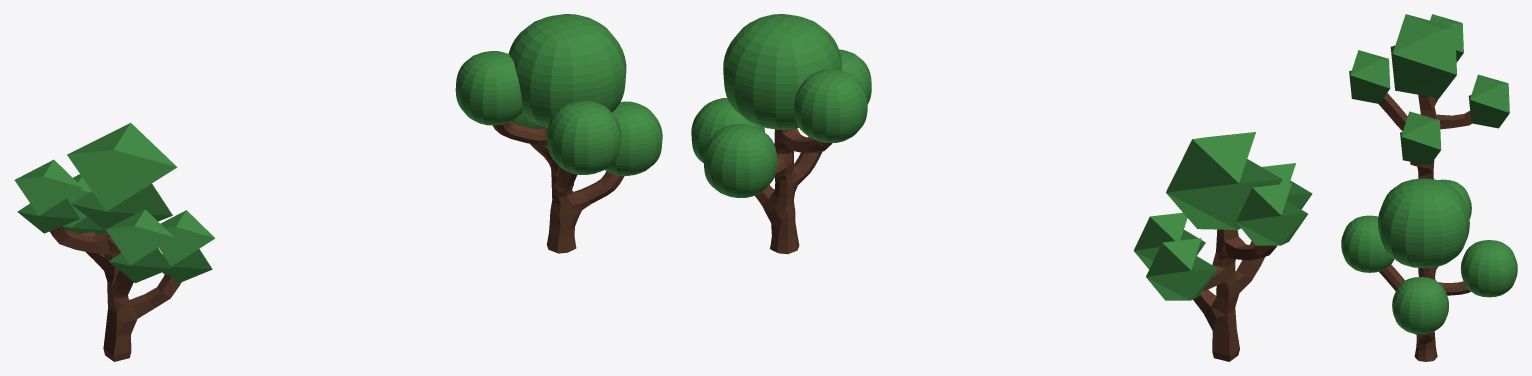
File: Arvore.fbx
3 renders of one model, left to right at view 1: azimuth 30°, elevation 25°; view 2: azimuth 150°, elevation 25°; view 3: azimuth 270°, elevation 25°, orthographic. The views are drawn at different scales.
Visible parts, largest first — view 1: Cube.003, Cube.001, Plane.003, Plane; view 2: Cube.003, Cube.001, Plane.003, Plane; view 3: Cube.003, Cube.001, Plane.003, Plane.
Boxes of the visible parts, box(x1,y1,x2,y2) form: Cube.003: box(455, 14, 662, 175); Cube.001: box(14, 123, 215, 283); Plane.003: box(50, 226, 181, 361); Plane: box(492, 121, 624, 253); Cube.003: box(691, 14, 871, 197); Cube.001: box(1133, 132, 1312, 300); Plane.003: box(1193, 229, 1276, 361); Plane: box(755, 128, 832, 254); Cube.003: box(1341, 178, 1517, 334); Cube.001: box(1349, 14, 1509, 165); Plane.003: box(1378, 93, 1471, 179); Plane: box(1379, 264, 1470, 361).
Size of the model in its own units: 1687 by 595 by 542.
